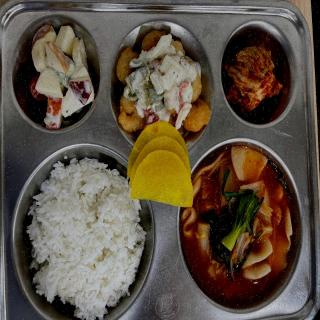Nasi: (26, 156, 130, 320)
